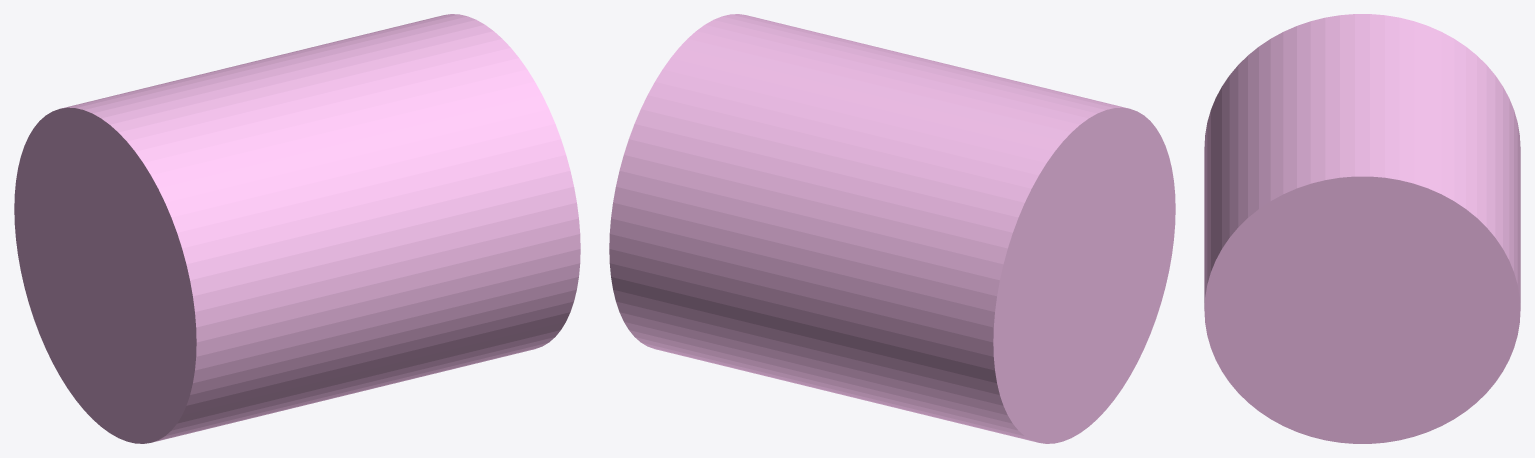
File: center.gltf
3 views of the same model, side by side, from view 1: azimuth 30°, elevation 25°; view 2: azimuth 150°, elevation 25°; view 3: azimuth 270°, elevation 25° (orthographic). The views are drawn at different scales.
Parts seen in each view (by area): view 1: center; view 2: center; view 3: center.
Part boxes in pixels (x1,y1,x2,y2): center: (14,14,580,443); center: (609,14,1175,443); center: (1204,14,1520,443).
Size of the model in its own units: 0.5086 by 0.3903 by 0.418.
